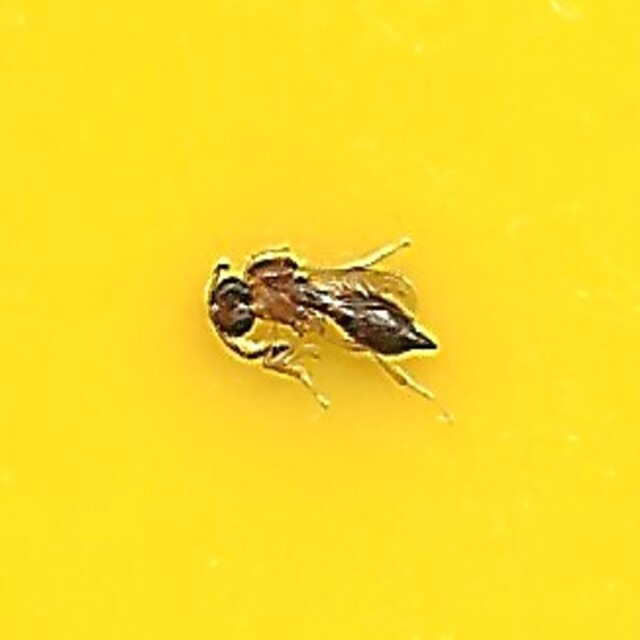Hymenoptera: (196, 242, 444, 398)
